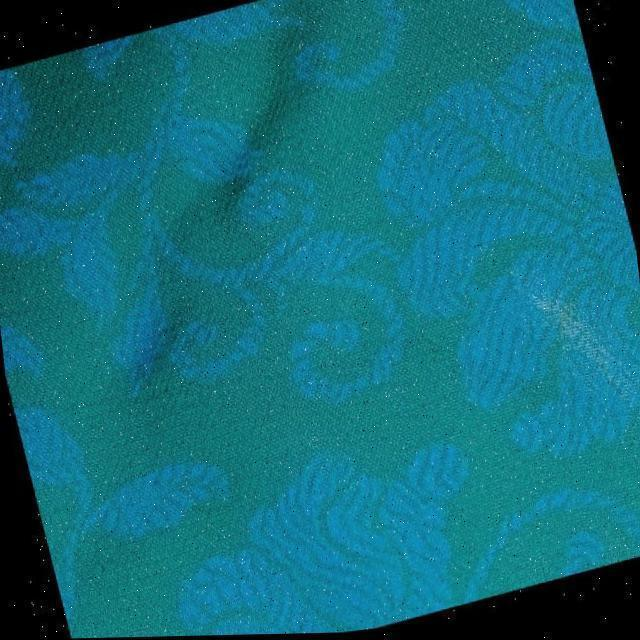stain: (533, 284, 640, 408)
